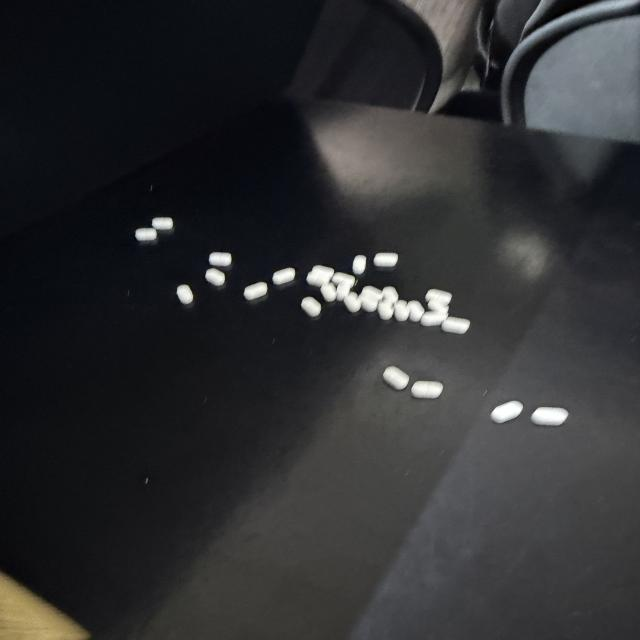pill: (491, 401, 523, 423), (531, 407, 568, 426), (383, 366, 409, 390), (307, 266, 334, 287), (411, 381, 443, 398), (441, 317, 470, 333), (359, 290, 379, 312), (425, 289, 452, 305), (244, 282, 267, 300), (421, 311, 448, 326), (301, 297, 321, 317), (272, 268, 295, 285), (307, 271, 330, 287), (407, 301, 424, 322), (344, 292, 361, 313), (312, 265, 334, 281), (206, 268, 225, 286), (374, 253, 398, 267), (332, 273, 355, 287), (394, 300, 409, 321), (209, 252, 231, 266), (177, 285, 193, 304), (378, 300, 393, 320), (428, 299, 448, 314), (135, 228, 157, 241), (151, 217, 173, 230), (321, 283, 336, 302), (362, 286, 382, 300), (352, 255, 366, 275), (337, 281, 350, 301), (383, 287, 398, 304)
